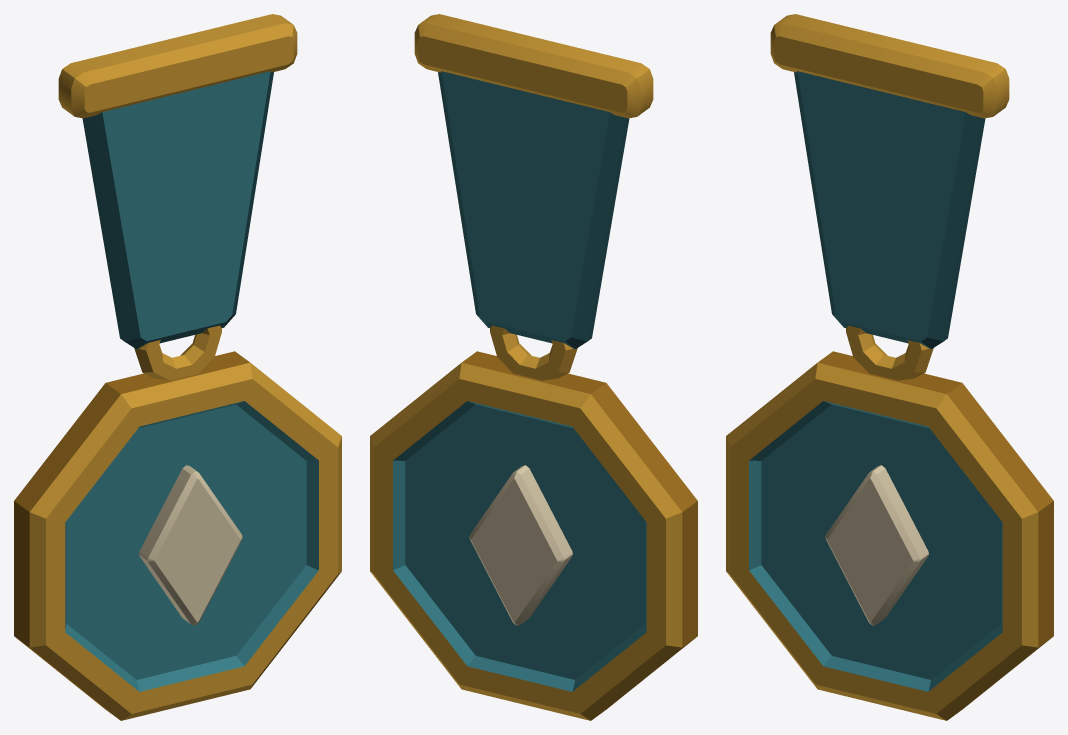
Rendered from Medal_32.glb.
The picture shows the model from 3 angles, left to right: view 1: azimuth 30°, elevation 25°; view 2: azimuth 150°, elevation 25°; view 3: azimuth 330°, elevation 25°; orthographic projection.
Parts seen in each view (by area): view 1: Medal_32; view 2: Medal_32; view 3: Medal_32.
Boxes of the visible parts, left/top/right/bottom form: Medal_32: left=14, top=14, right=341, bottom=720; Medal_32: left=370, top=14, right=697, bottom=720; Medal_32: left=726, top=14, right=1053, bottom=720.
Bounding box in the file's own units: 1.28 × 2.57 × 0.28.
